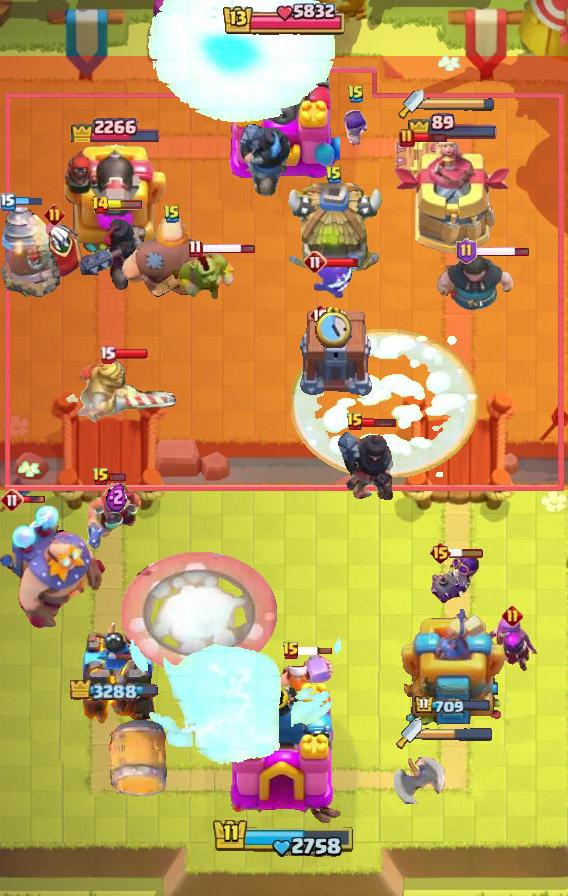balloon: (119, 214, 225, 304)
bar: (401, 601, 505, 731), (394, 142, 512, 256)
bomb: (297, 311, 375, 397)
clock: (212, 817, 356, 859), (221, 0, 347, 40)
dirt: (108, 719, 176, 799)
electro-spirit: (105, 480, 126, 511)
elixir: (315, 307, 352, 348)
emote: (475, 245, 530, 259), (200, 242, 255, 255), (412, 132, 447, 145), (113, 348, 149, 360), (449, 547, 485, 559), (362, 416, 398, 427), (325, 257, 359, 268), (107, 200, 143, 210), (297, 646, 333, 656), (11, 196, 43, 207), (12, 495, 46, 505), (108, 472, 127, 482)
fireball: (85, 482, 147, 552)
flying-machine: (178, 250, 236, 304)
goblin: (343, 108, 369, 146)
goblin-ball: (429, 552, 481, 608)
goblin-brawler: (394, 135, 442, 177)
inferno-dragon: (77, 207, 155, 297), (337, 427, 397, 503), (237, 119, 293, 199)
king-tower: (222, 680, 346, 826), (228, 29, 340, 181)
king-tower-bar: (424, 97, 496, 111), (422, 727, 494, 741)
little-prince: (0, 504, 106, 630)
magic-archer: (0, 206, 60, 298)
mega-knight: (130, 623, 346, 769), (141, 0, 338, 126)
mighty-miner: (270, 651, 334, 715)
phoenix-big: (291, 329, 479, 477)
prince: (283, 183, 385, 279)
queen-tower: (72, 619, 156, 731)
ram-rider: (63, 358, 177, 428)
rascal-girl: (484, 614, 540, 678)
royal-giant: (392, 740, 446, 804)
royal-hog: (434, 249, 522, 325)
selected: (68, 111, 160, 141), (407, 113, 499, 142), (70, 680, 158, 703), (414, 695, 492, 716)
skeleton-king: (24, 216, 84, 282)
spear-goblin: (312, 258, 354, 298)
text: (303, 250, 327, 274), (0, 488, 24, 512), (429, 541, 452, 565), (456, 238, 477, 264), (309, 303, 331, 327), (501, 605, 522, 627), (43, 203, 64, 224), (90, 195, 109, 215), (347, 84, 365, 104), (325, 165, 343, 185), (163, 204, 181, 224), (346, 412, 364, 432), (92, 467, 110, 487), (282, 641, 300, 661), (99, 344, 117, 363), (399, 128, 415, 148), (0, 193, 16, 211), (188, 239, 203, 258)
tower-bar: (60, 138, 168, 256)
wall-breaker: (122, 551, 279, 674)
